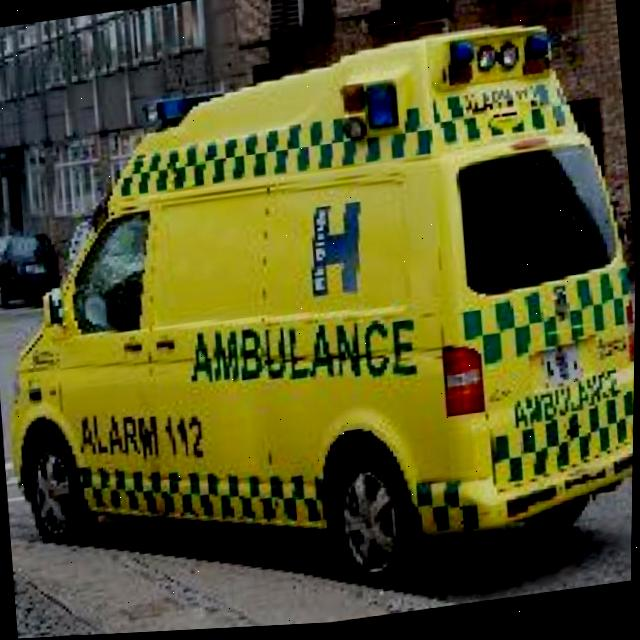emergency: (0, 10, 640, 640)
